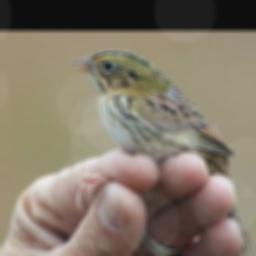Sparrow: (71, 49, 256, 256)
